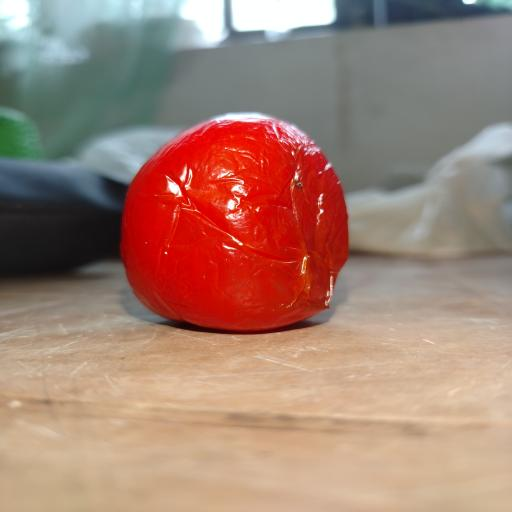spoiled: (122, 115, 348, 331)
